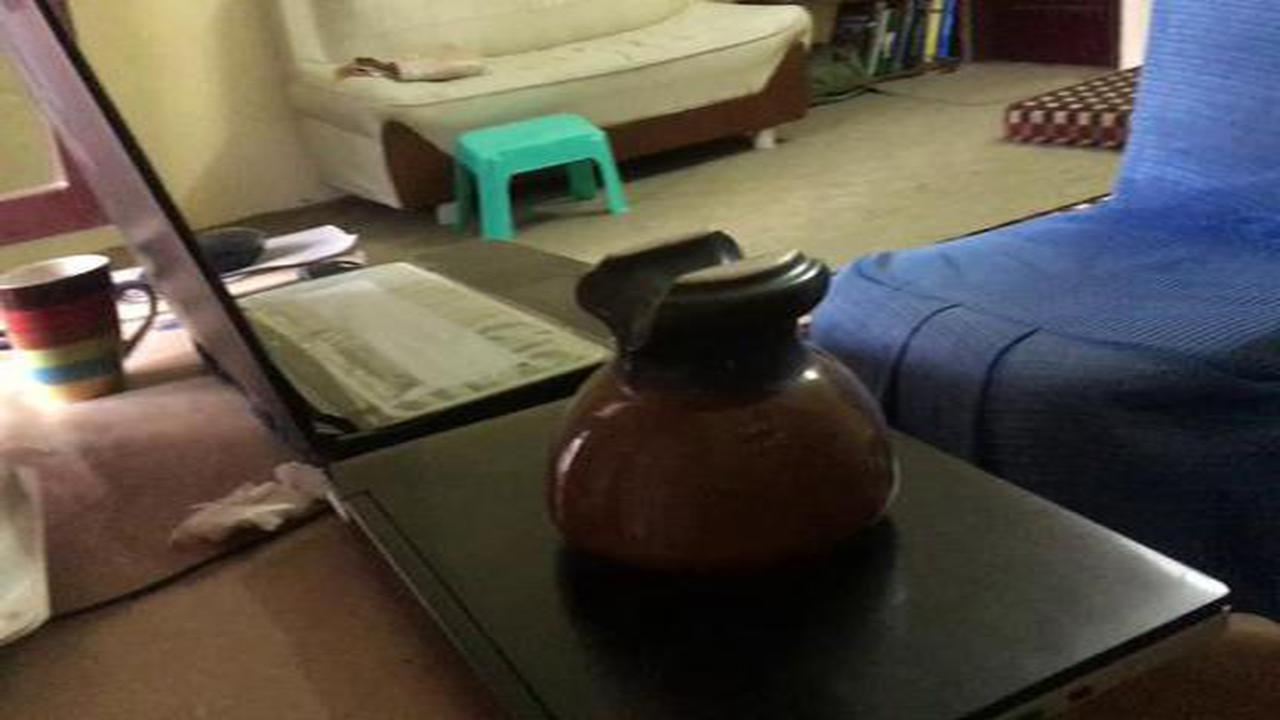insulator_pin: (521, 226, 933, 611)
